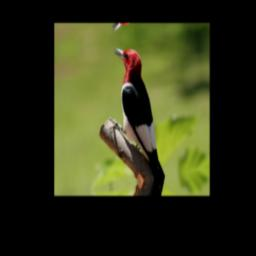Woodpecker: (110, 38, 167, 184)
